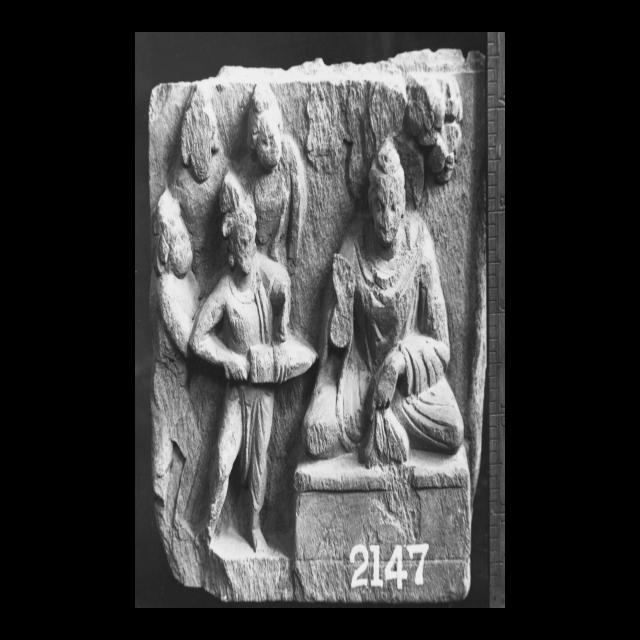buddha-sitting: (294, 138, 476, 602)
